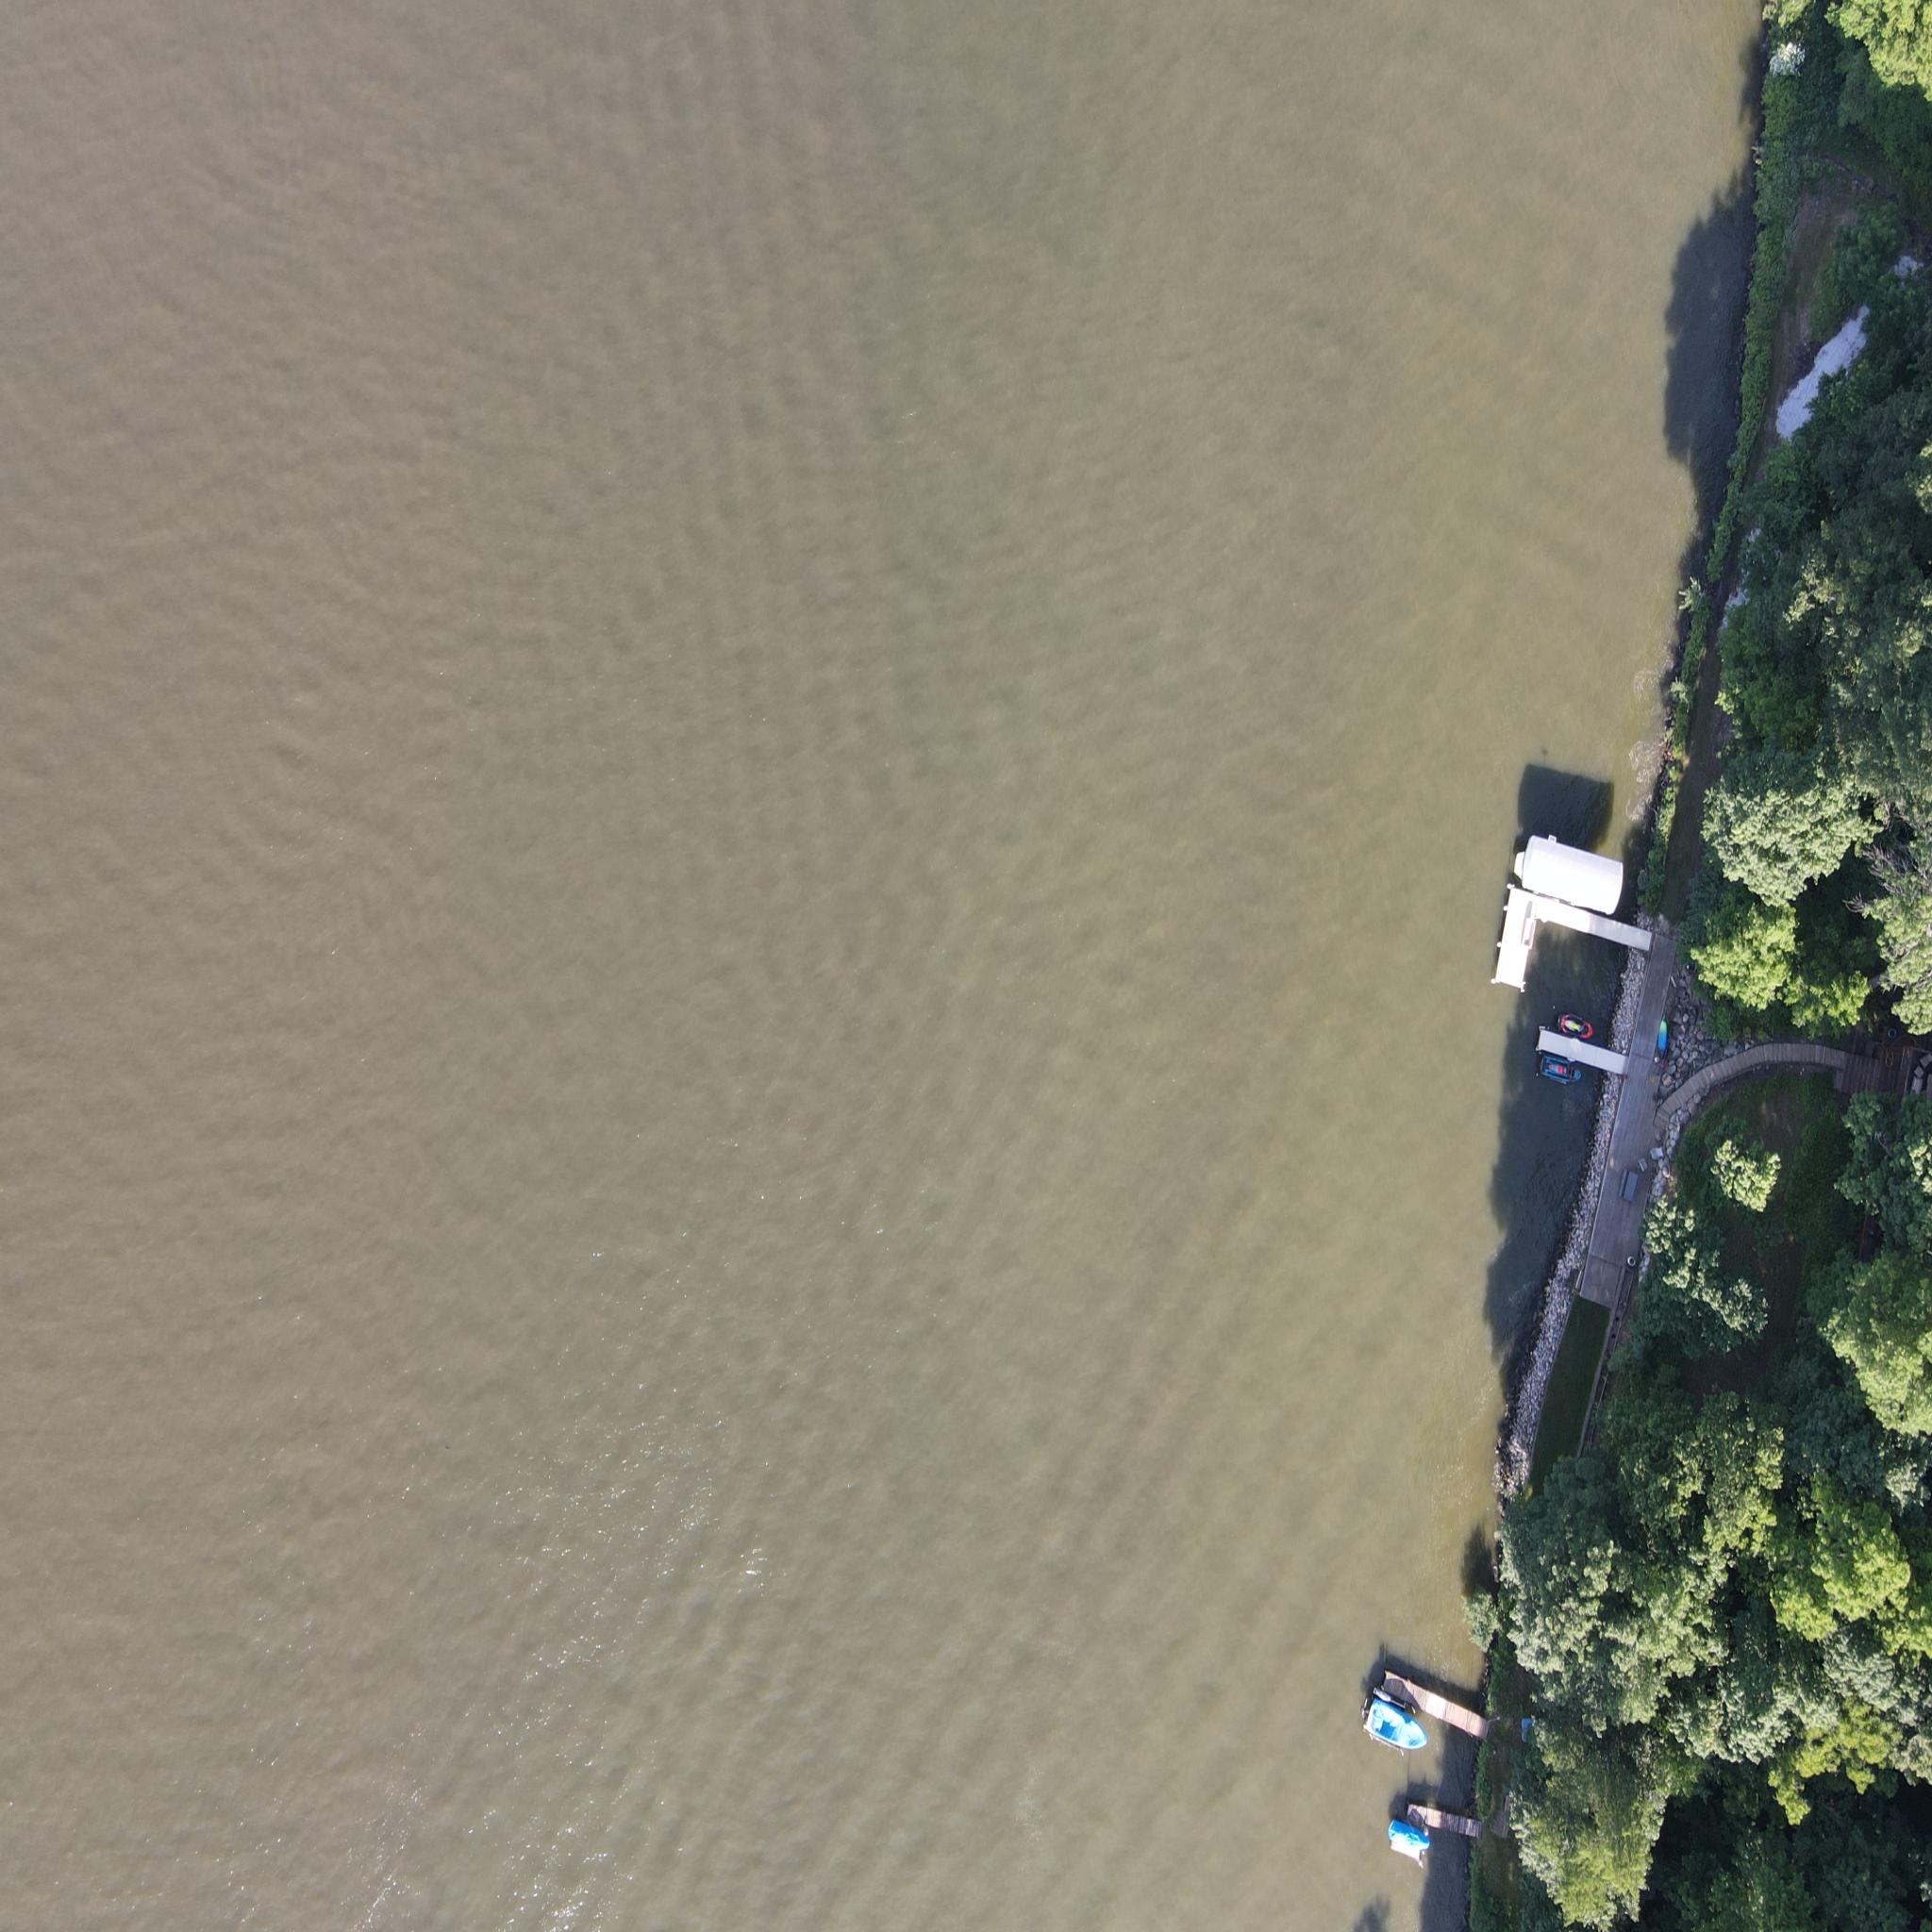dock: (1484, 886, 1658, 994), (1373, 1661, 1486, 1764), (1536, 1012, 1633, 1086), (1396, 1796, 1488, 1861)
jetski: (1364, 1695, 1430, 1762), (1534, 1053, 1585, 1095), (1385, 1817, 1433, 1859), (1552, 1010, 1601, 1039)
lift: (1509, 821, 1629, 916)
